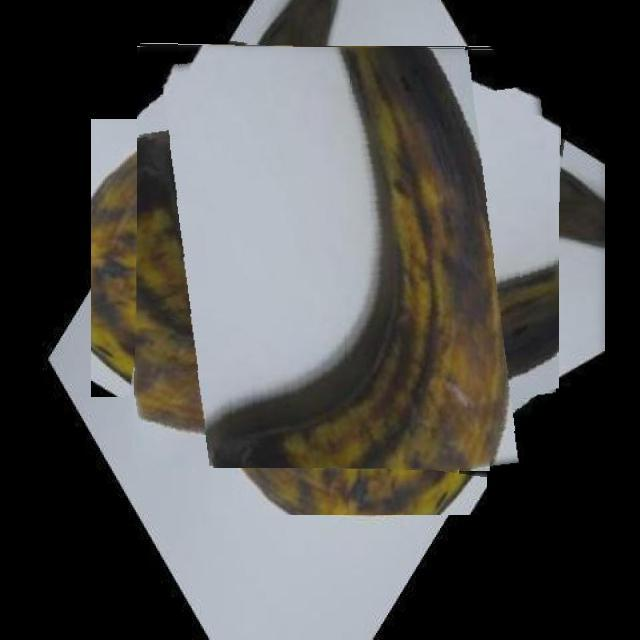Execivamente Madura: (135, 45, 561, 470)
